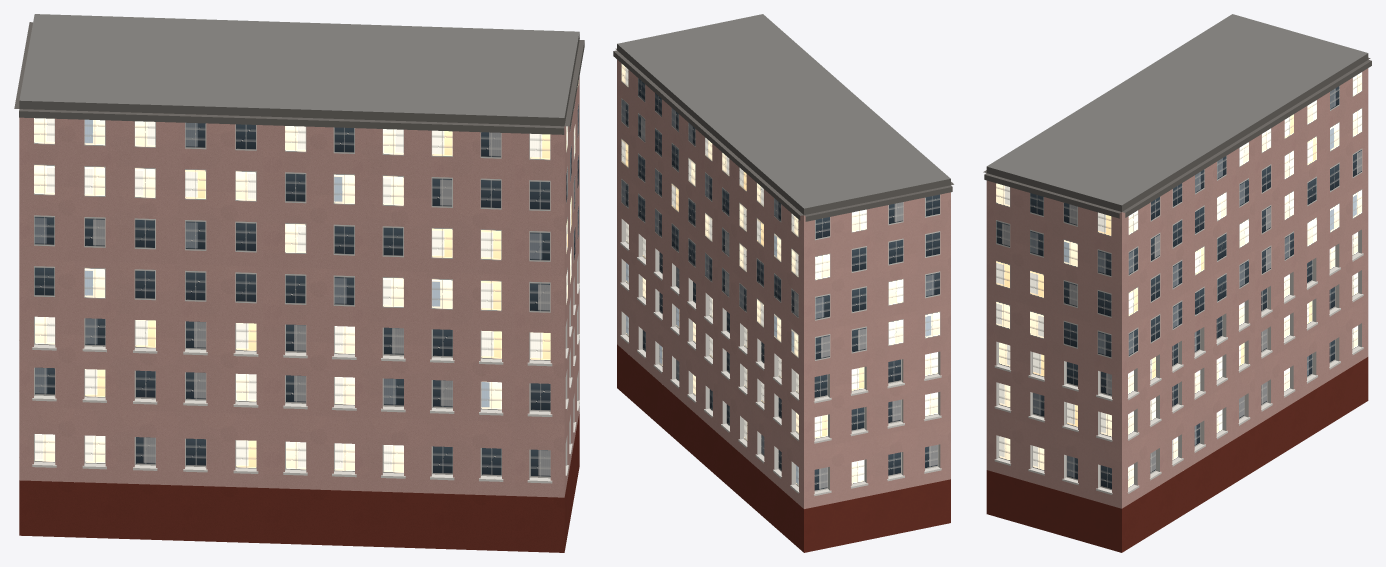
The model's file is z5c_letzi_pink.glb.
3 views of the same model, side by side, from view 1: azimuth 30°, elevation 25°; view 2: azimuth 150°, elevation 25°; view 3: azimuth 270°, elevation 25° (orthographic). The views are drawn at different scales.
Parts seen in each view (by area): view 1: z5c_letzi_pink; view 2: z5c_letzi_pink; view 3: z5c_letzi_pink.
Boxes of the visible parts, x1,y1,x2,y2 form: z5c_letzi_pink: [14, 14, 584, 552]; z5c_letzi_pink: [613, 14, 953, 552]; z5c_letzi_pink: [983, 14, 1371, 552].
Size of the model in its own units: 28.29 by 23.6 by 23.92.
Materials: 3 (3 with a texture image).
